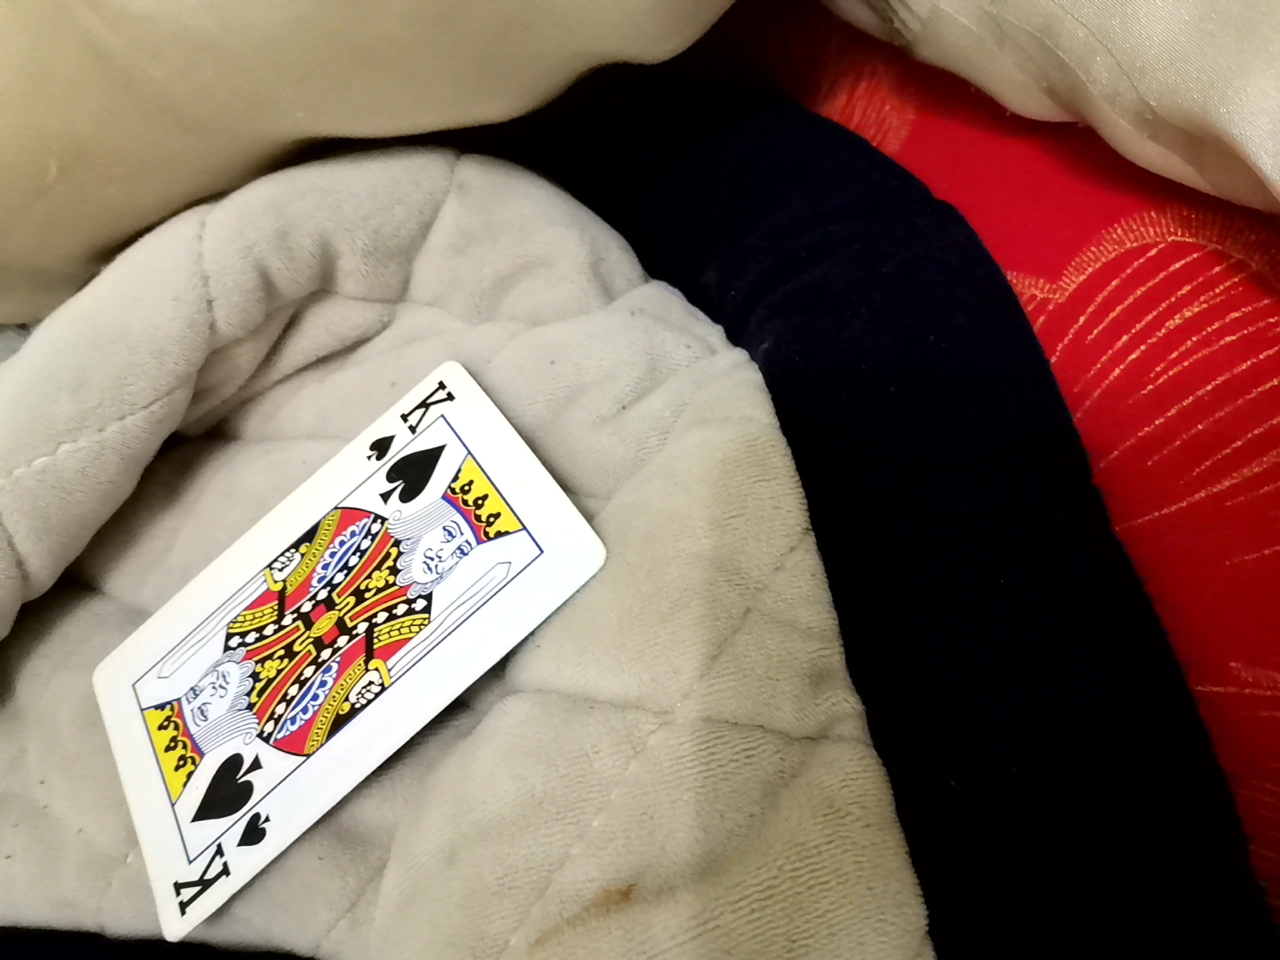ht k: (56, 371, 602, 931)
